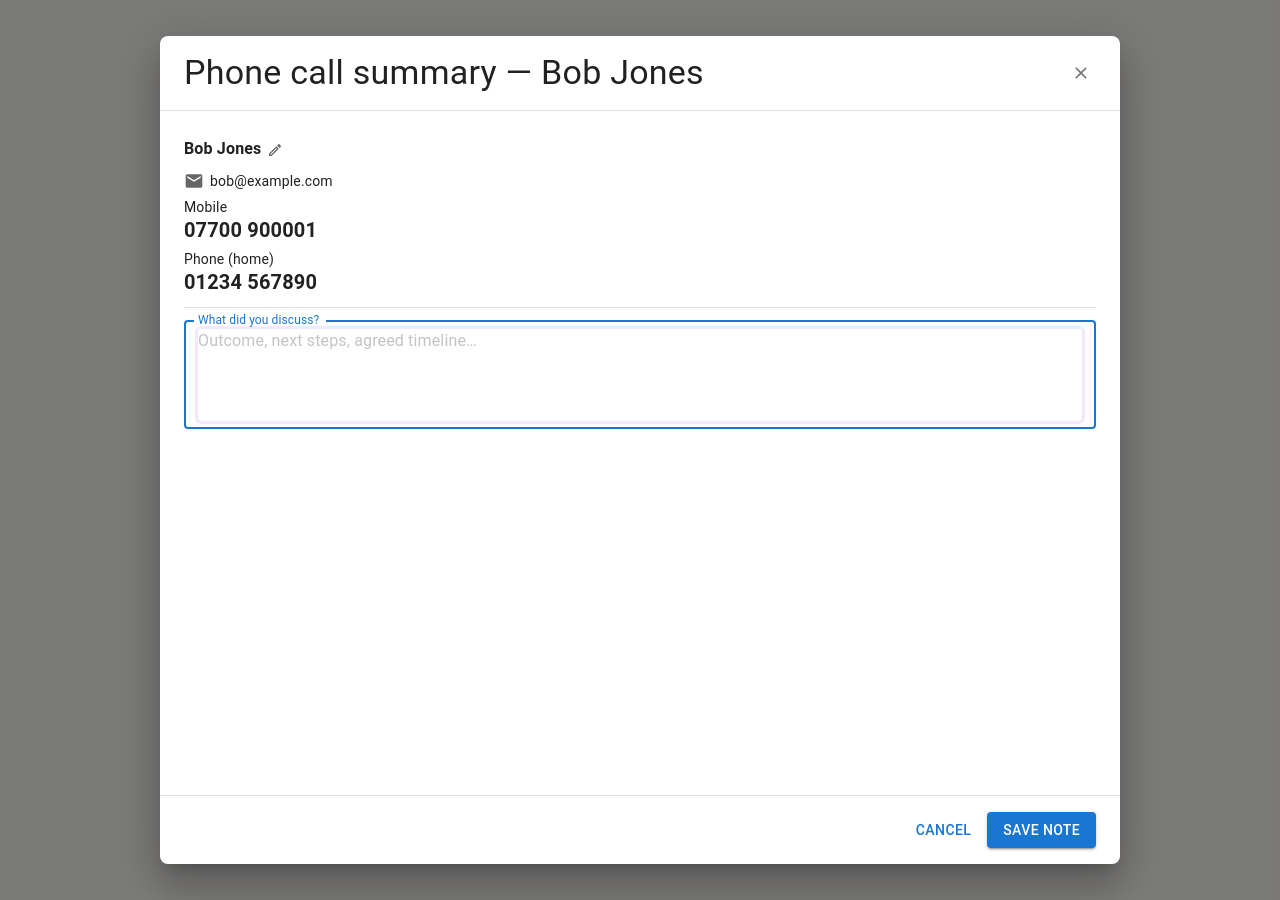
Test: PhoneSummaryModal — discard guard: dirty state shows dialog › shows the discard dialog when the summary has text
In the text box labelled "What did you discuss?": {"x": 640, "y": 374} left=198, top=328, right=1082, bottom=420, type "Called, discussed the kitchen plans"
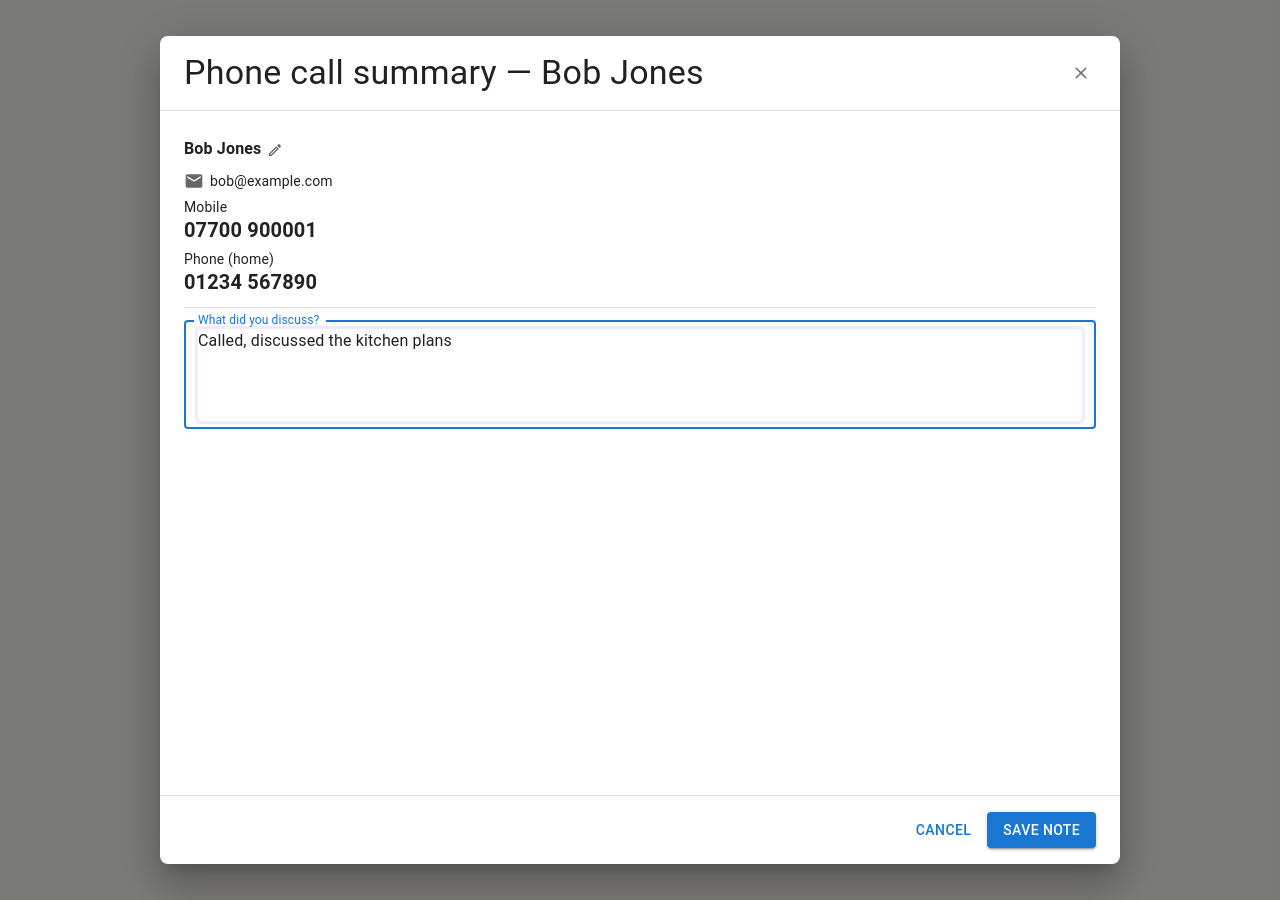
Click the button named "close": {"x": 1081, "y": 73} left=1066, top=58, right=1096, bottom=88
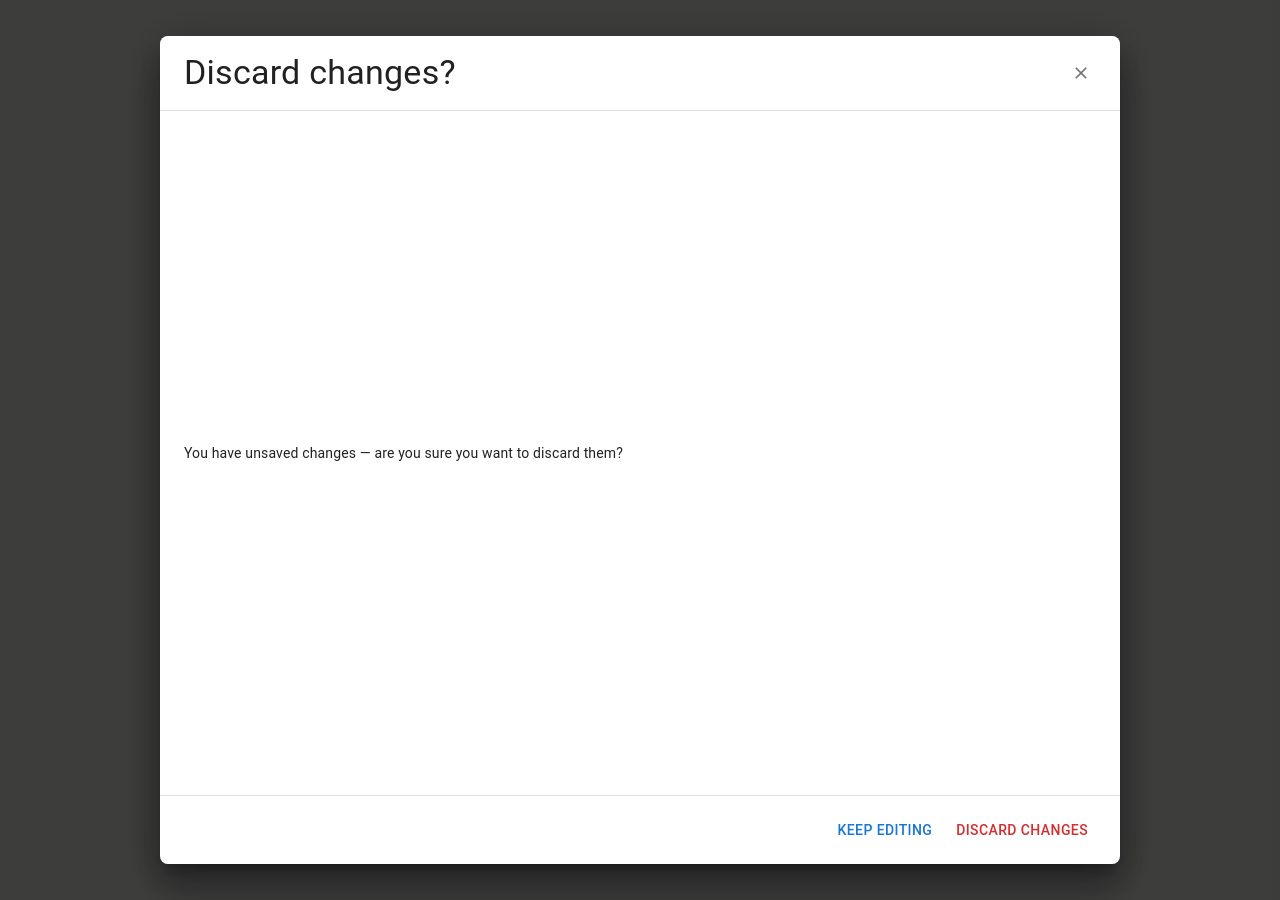
Expected: the dialog "Discard changes" is shown
